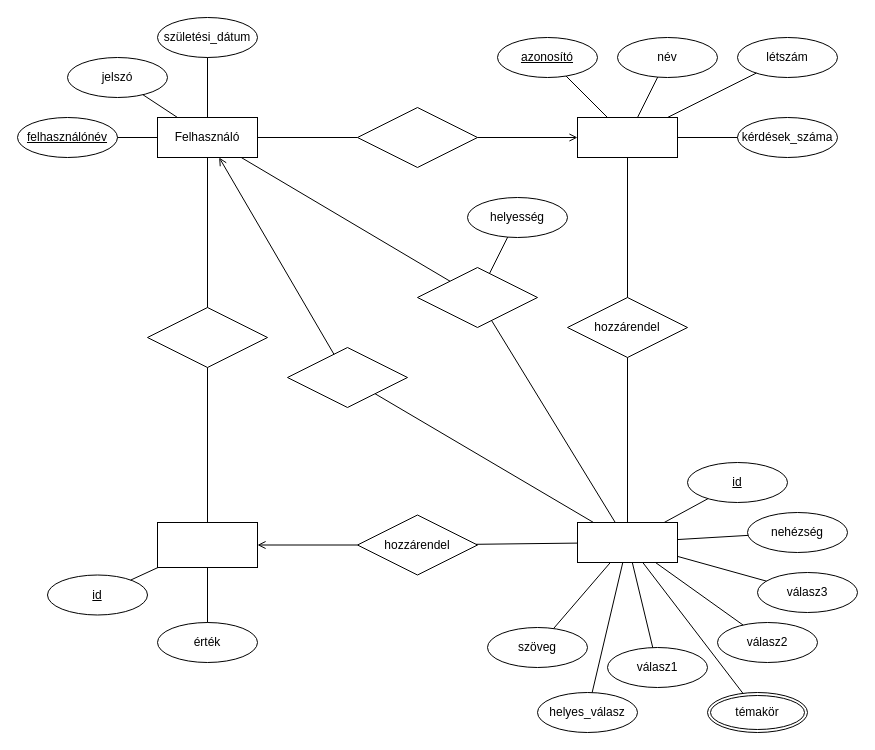
This 875x750 diagram has some shape labels left out. Here are the shapes that lost their labels. From the top down, the centre of each, then its label:
point 417,137: belép
point 627,137: Játék
point 477,297: válaszol
point 207,337: megszerez
point 347,377: felrögzít
point 207,545: Pont
point 627,542: Kérdés
